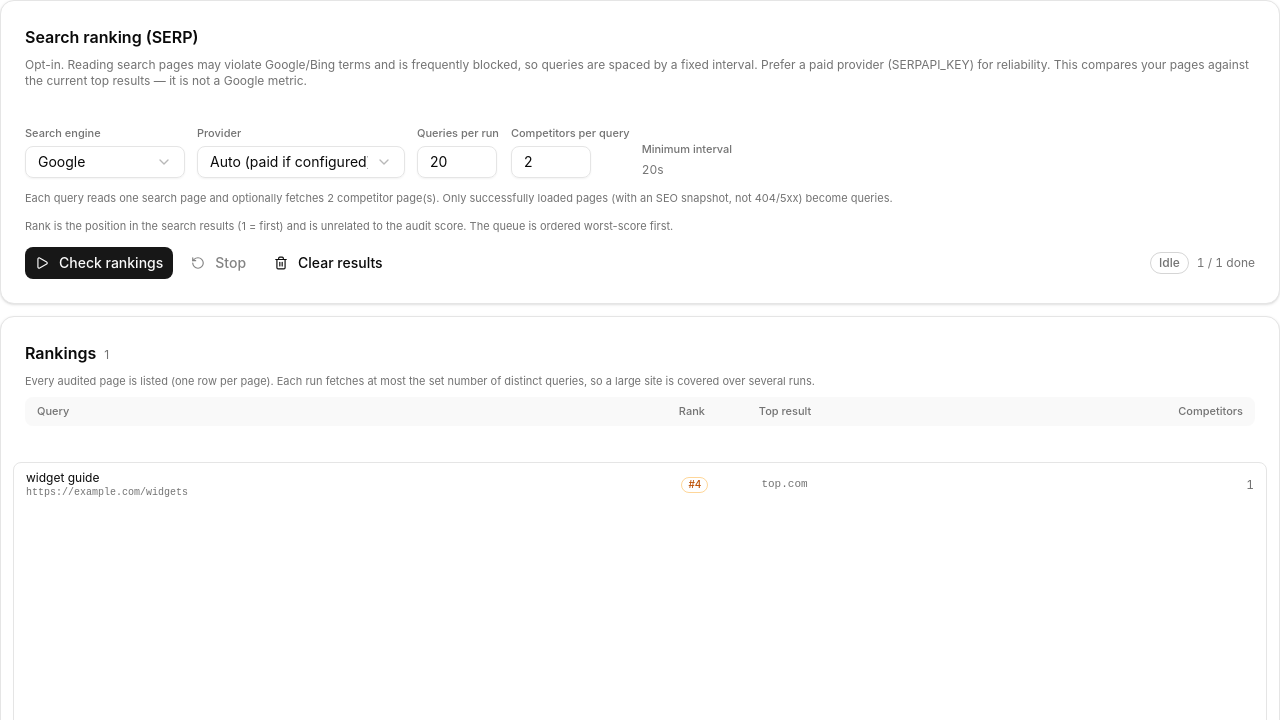
Scenario: SerpPanel › opens the detail with competitor comparison / 開啟詳情並顯示競品比較
Click the text "widget guide". click: (63, 477)
box: [26,470,99,485]
(page scrolled)
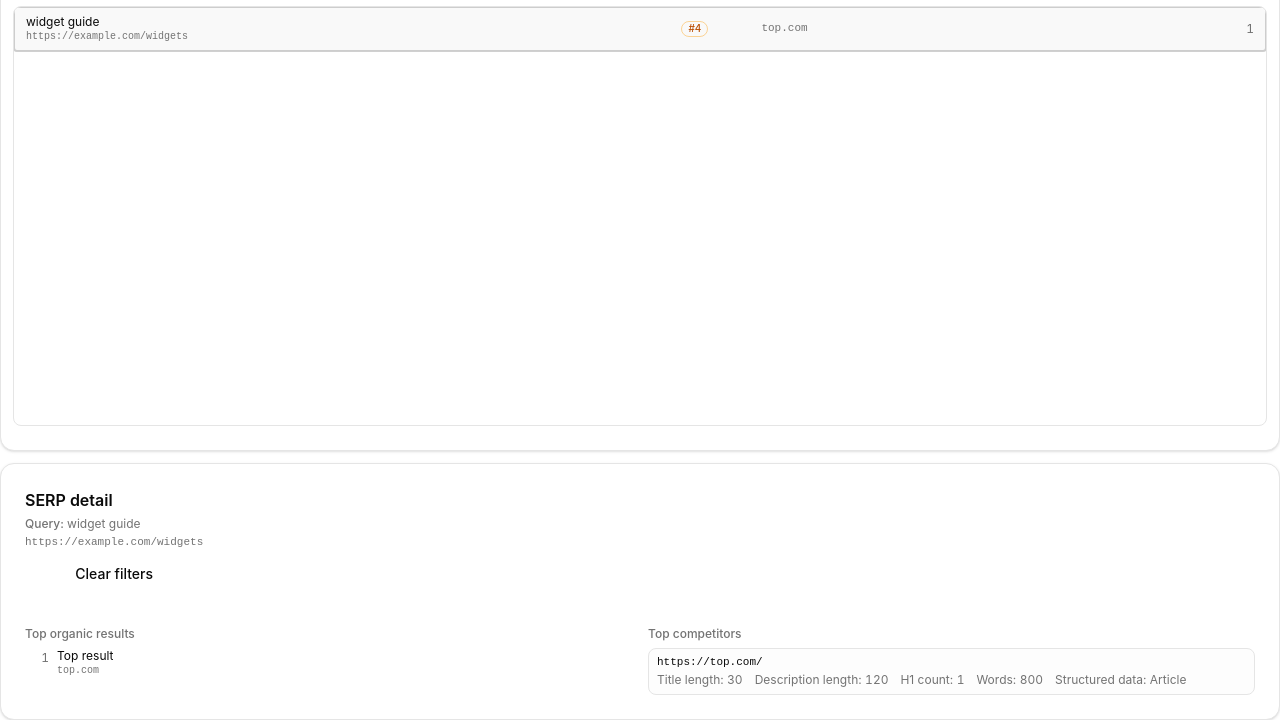
Check: the text "SERP detail" is shown, box [25,490,113,510]
Check: the text "Top organic results" is shown, box [25,626,135,641]
Check: the text "Top competitors" is shown, box [648,626,742,641]
